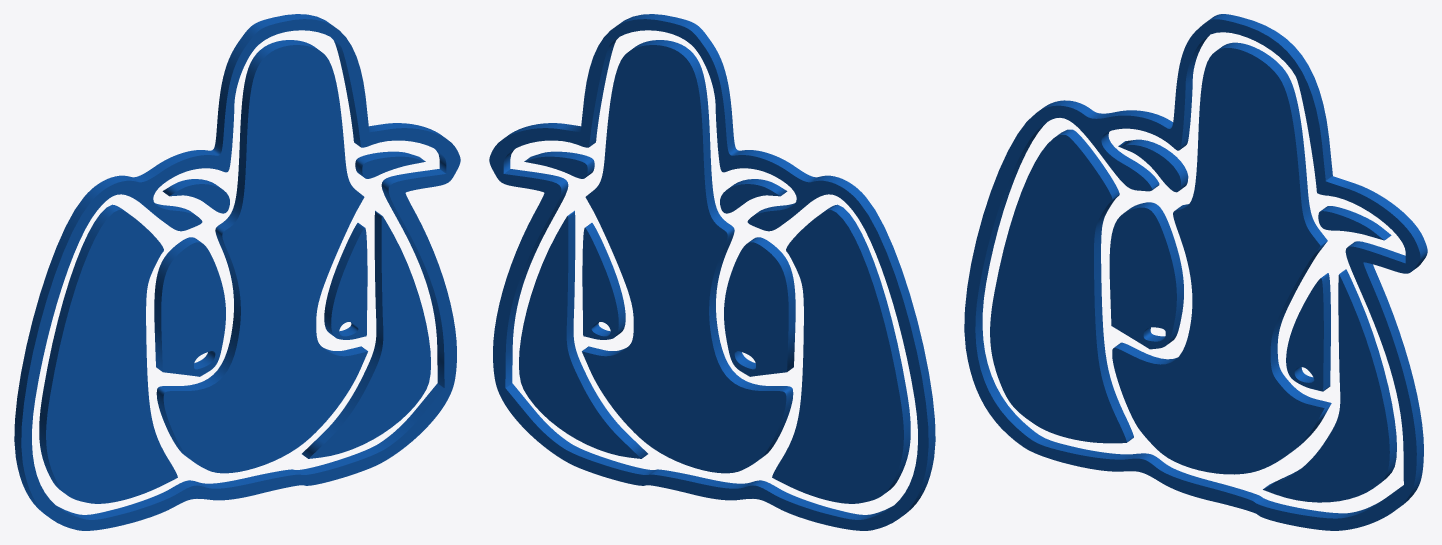
File: postgresql-transformed.glb
3 views of the same model, side by side, from view 1: azimuth 30°, elevation 25°; view 2: azimuth 150°, elevation 25°; view 3: azimuth 330°, elevation 25° (orthographic). The views are drawn at different scales.
Parts seen in each view (by area): view 1: Curve; view 2: Curve; view 3: Curve.
Part boxes in pixels (left/top/right/bottom): Curve: left=14, top=14, right=460, bottom=530; Curve: left=489, top=14, right=935, bottom=530; Curve: left=964, top=14, right=1427, bottom=530.
Size of the model in its own units: 0.0683 by 0.07 by 0.00186.
